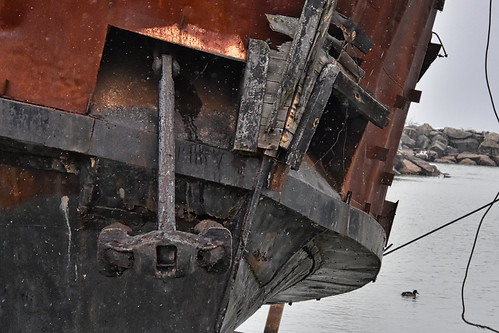anchor: (95, 29, 240, 286)
rocks: (406, 102, 499, 185)
